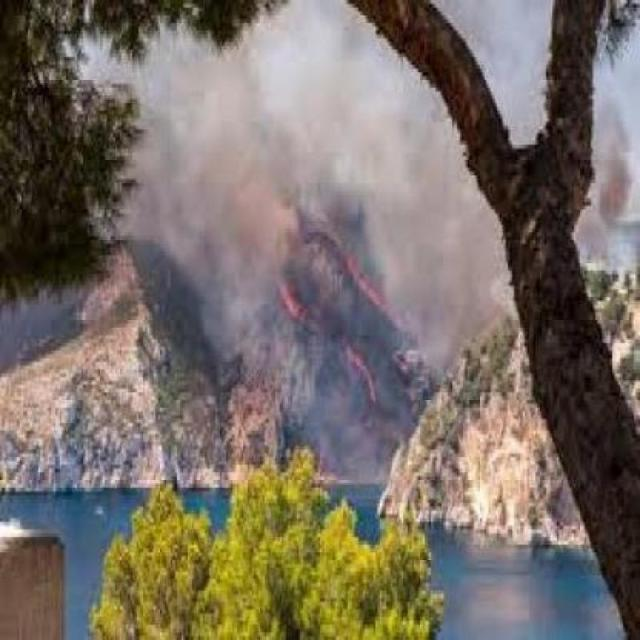Fire: (276, 234, 410, 428)
Smoke: (175, 171, 268, 399)
